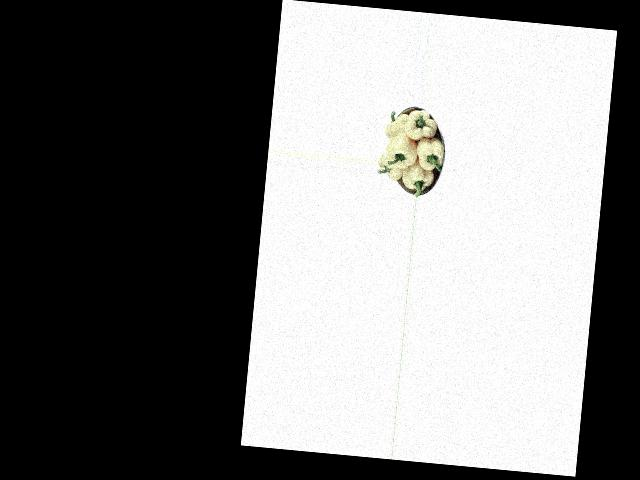bell_pepper: (376, 153, 407, 184)
